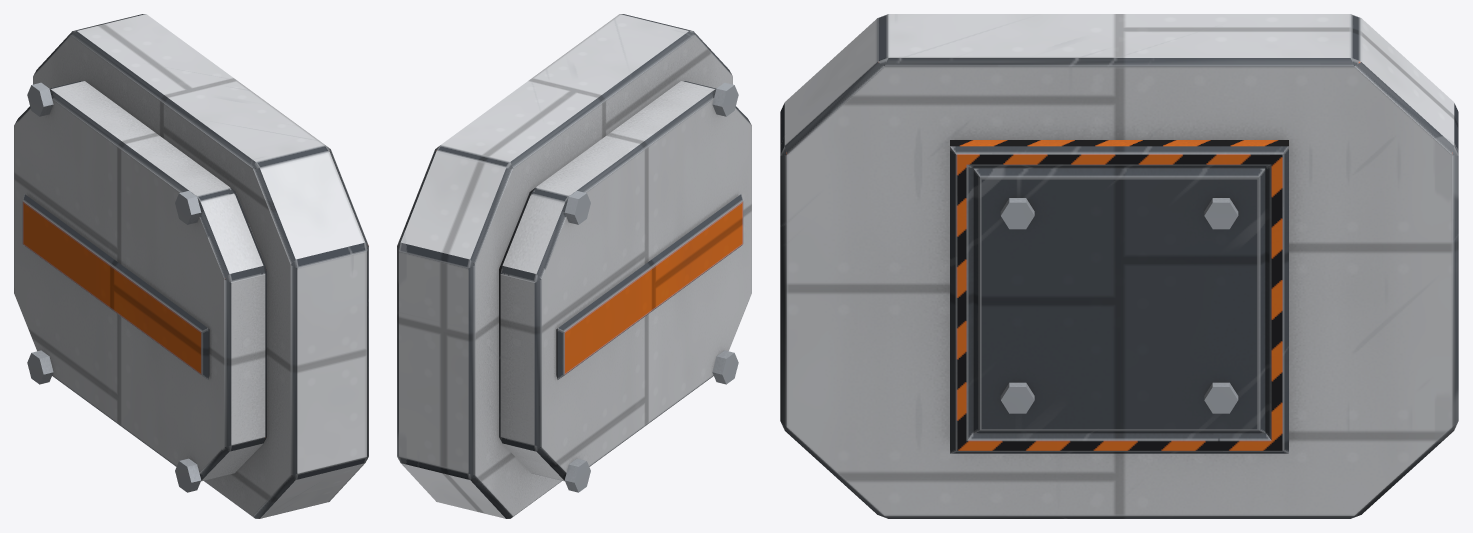
File: blindaje_extra_t2.fbx
The picture shows the model from 3 angles, left to right: view 1: azimuth 30°, elevation 25°; view 2: azimuth 150°, elevation 25°; view 3: azimuth 270°, elevation 25°; orthographic projection. The views are drawn at different scales.
Parts seen in each view (by area): view 1: blindaje_extra_t2; view 2: blindaje_extra_t2; view 3: blindaje_extra_t2.
Part boxes in pixels (x1,y1,x2,y2): blindaje_extra_t2: [14, 14, 368, 518]; blindaje_extra_t2: [397, 14, 751, 518]; blindaje_extra_t2: [780, 14, 1458, 518].
Bounding box in the file's own units: 1.11 × 2.4 × 3.2.
